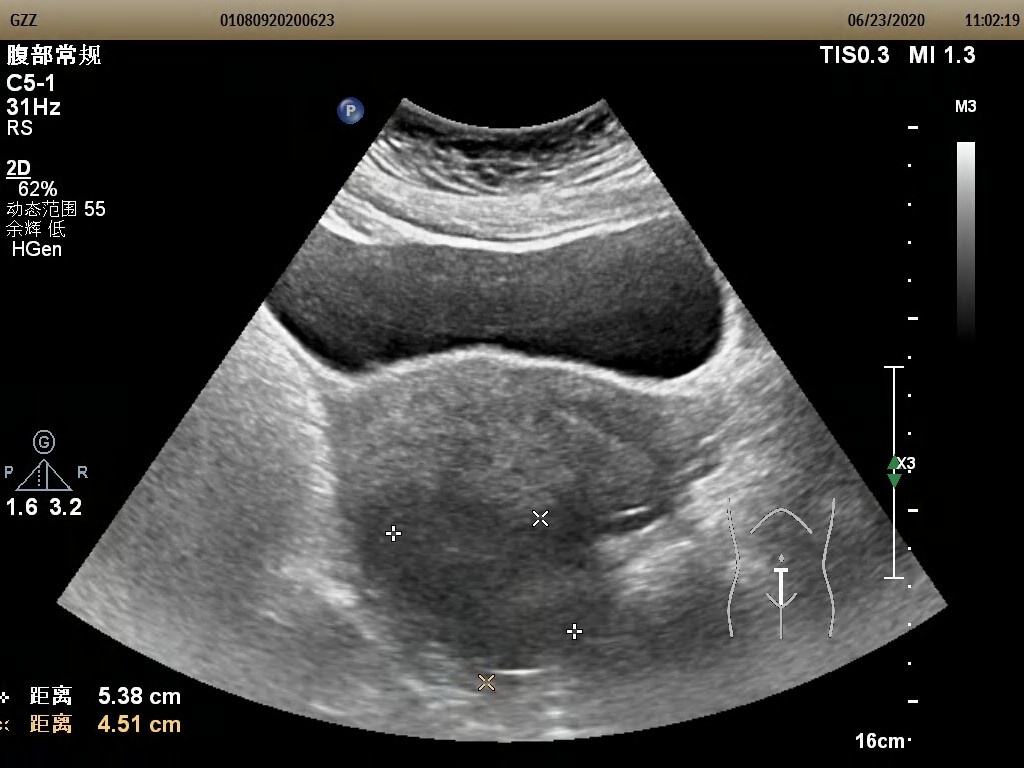肌瘤: (394, 517, 577, 680)
